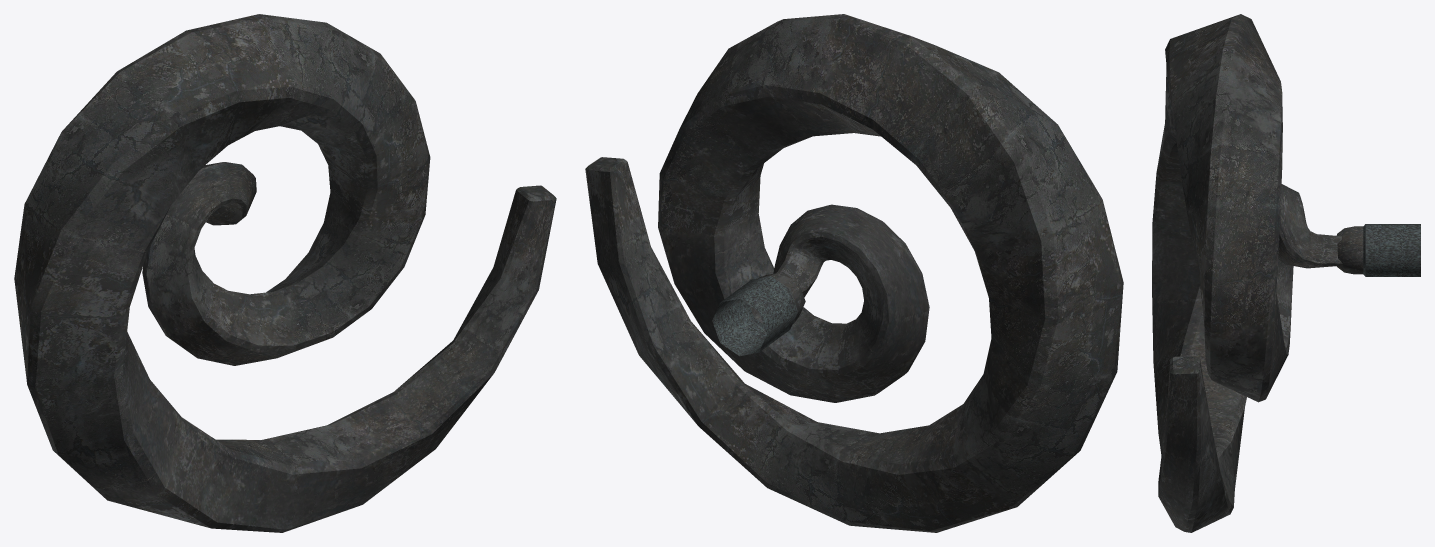
File: p6_la_sculpture_fountain_01_LOD1.obj
The picture shows the model from 3 angles, left to right: view 1: azimuth 30°, elevation 25°; view 2: azimuth 150°, elevation 25°; view 3: azimuth 270°, elevation 25°; orthographic projection. The views are drawn at different scales.
Visible parts, largest first — view 1: metal_wall_brushed02; view 2: metal_wall_brushed02, stone_floor_granite_tile01_blue; view 3: metal_wall_brushed02, stone_floor_granite_tile01_blue.
Boxes of the visible parts, x1=… form: metal_wall_brushed02: x1=14, y1=14, x2=556, y2=532; metal_wall_brushed02: x1=585, y1=14, x2=1123, y2=532; stone_floor_granite_tile01_blue: x1=712, y1=276, x2=798, y2=356; metal_wall_brushed02: x1=1152, y1=14, x2=1363, y2=532; stone_floor_granite_tile01_blue: x1=1363, y1=224, x2=1420, y2=276.
Size of the model in its own units: 490 by 447 by 240.
